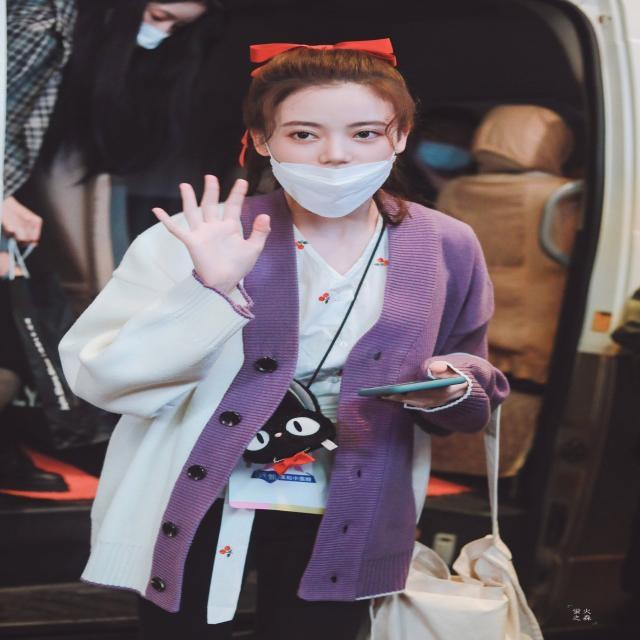hairnet: (272, 104, 396, 212)
